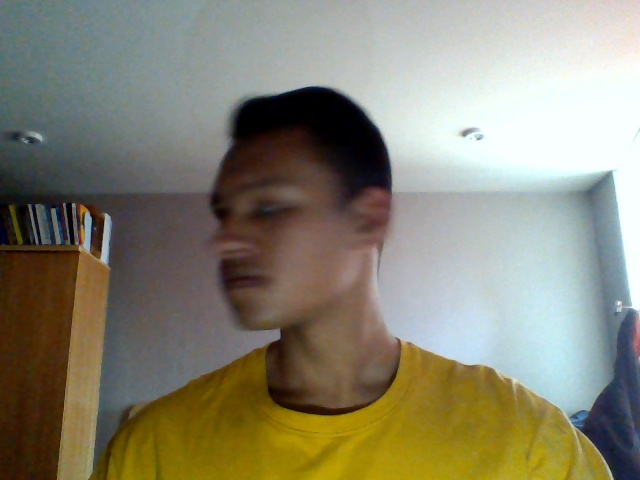no_mask: (206, 224, 371, 335)
